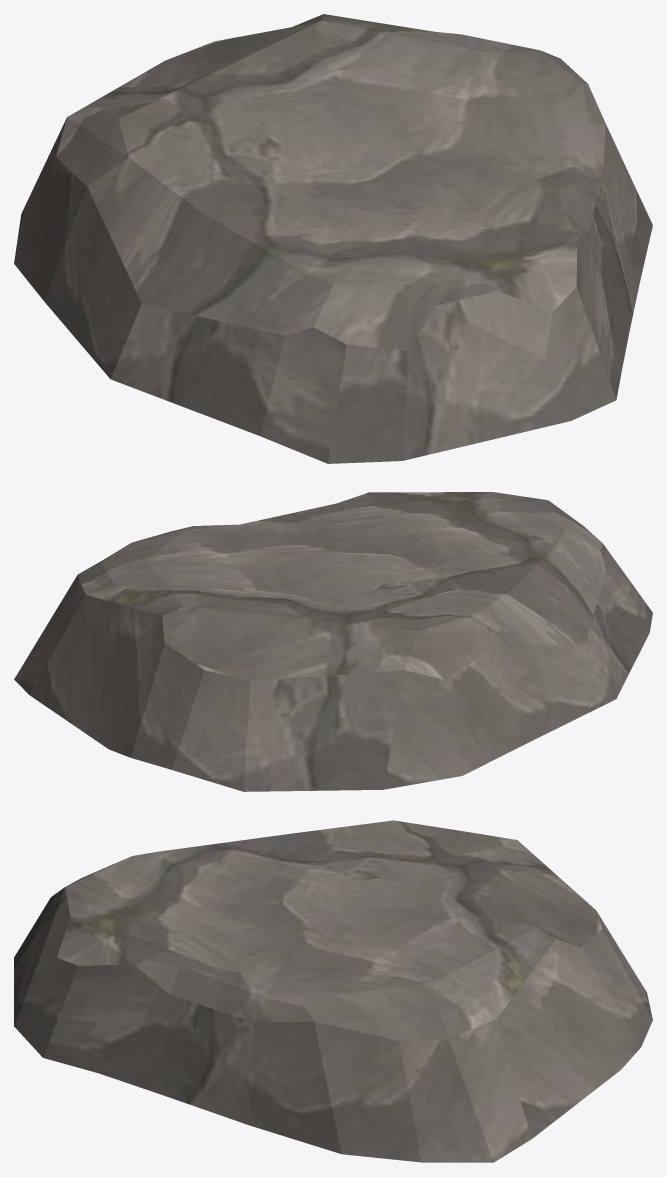
File: gpebble_round_4.glb
3 renders of one model, top to bottom at view 1: azimuth 30°, elevation 25°; view 2: azimuth 150°, elevation 25°; view 3: azimuth 270°, elevation 25°, orthographic. The views are drawn at different scales.
Visible parts, largest first — view 1: model; view 2: model; view 3: model.
Boxes of the visible parts, left/top/right/bottom form: model: left=14, top=14, right=652, bottom=463; model: left=14, top=492, right=652, bottom=791; model: left=14, top=820, right=652, bottom=1162.
Bounding box in the file's own units: 0.4 × 0.1059 × 0.4366.
1 material, 1 textured.
